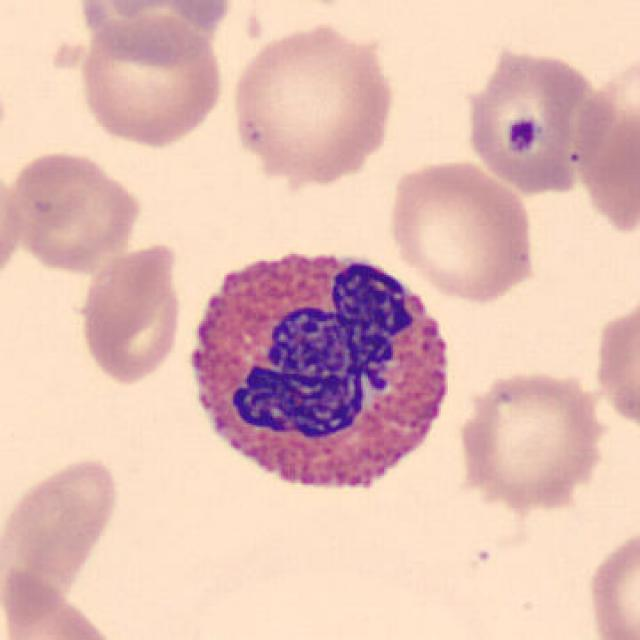Eosinophil: (174, 229, 466, 517)
RBC: (226, 19, 400, 187), (457, 41, 610, 198), (382, 155, 540, 305), (452, 365, 608, 511), (74, 10, 228, 150), (0, 452, 123, 608), (4, 146, 146, 274), (74, 236, 188, 390), (573, 52, 640, 237), (80, 0, 235, 62), (0, 569, 126, 640), (586, 298, 640, 433), (583, 522, 640, 640), (0, 158, 25, 294)
